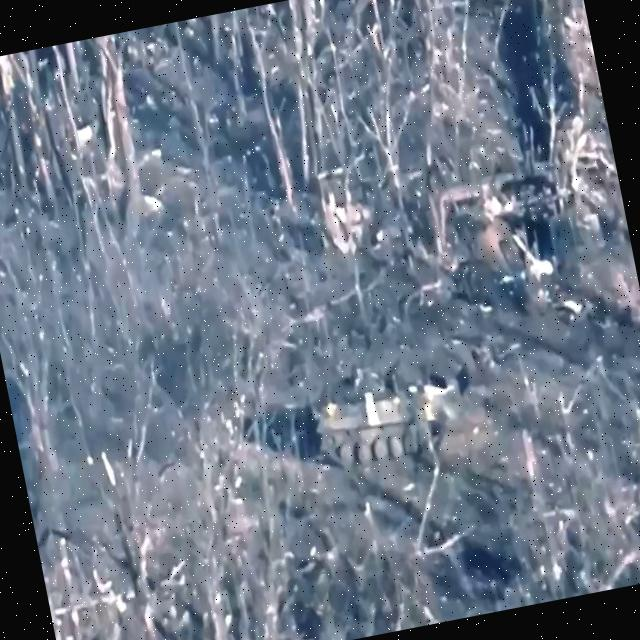AIFV: (300, 343, 469, 483)
